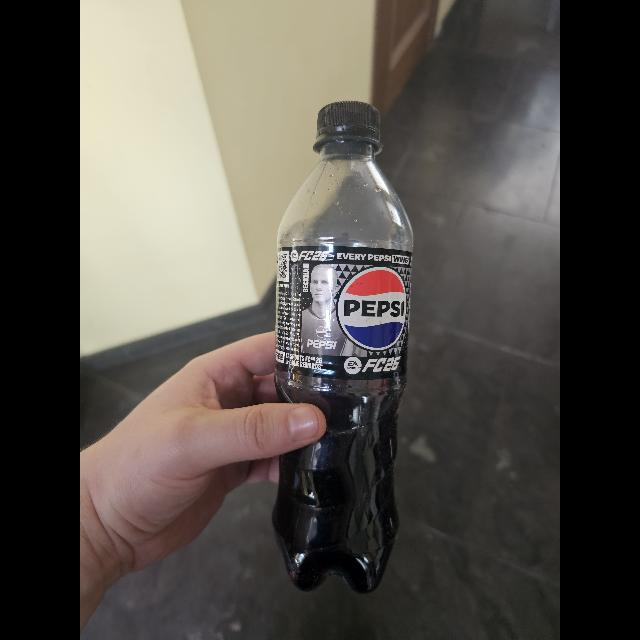Plastic: (271, 95, 417, 600)
